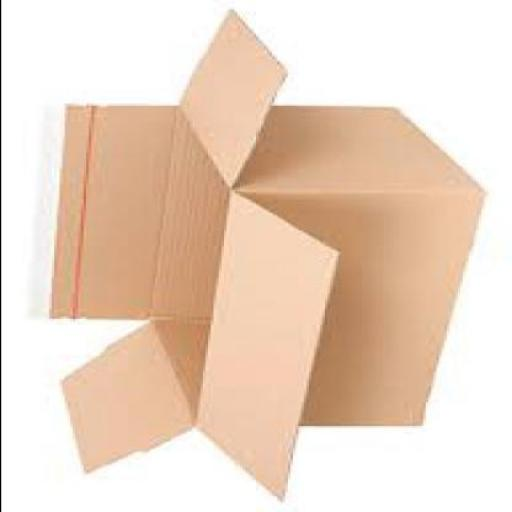cardboard: (45, 12, 481, 504)
